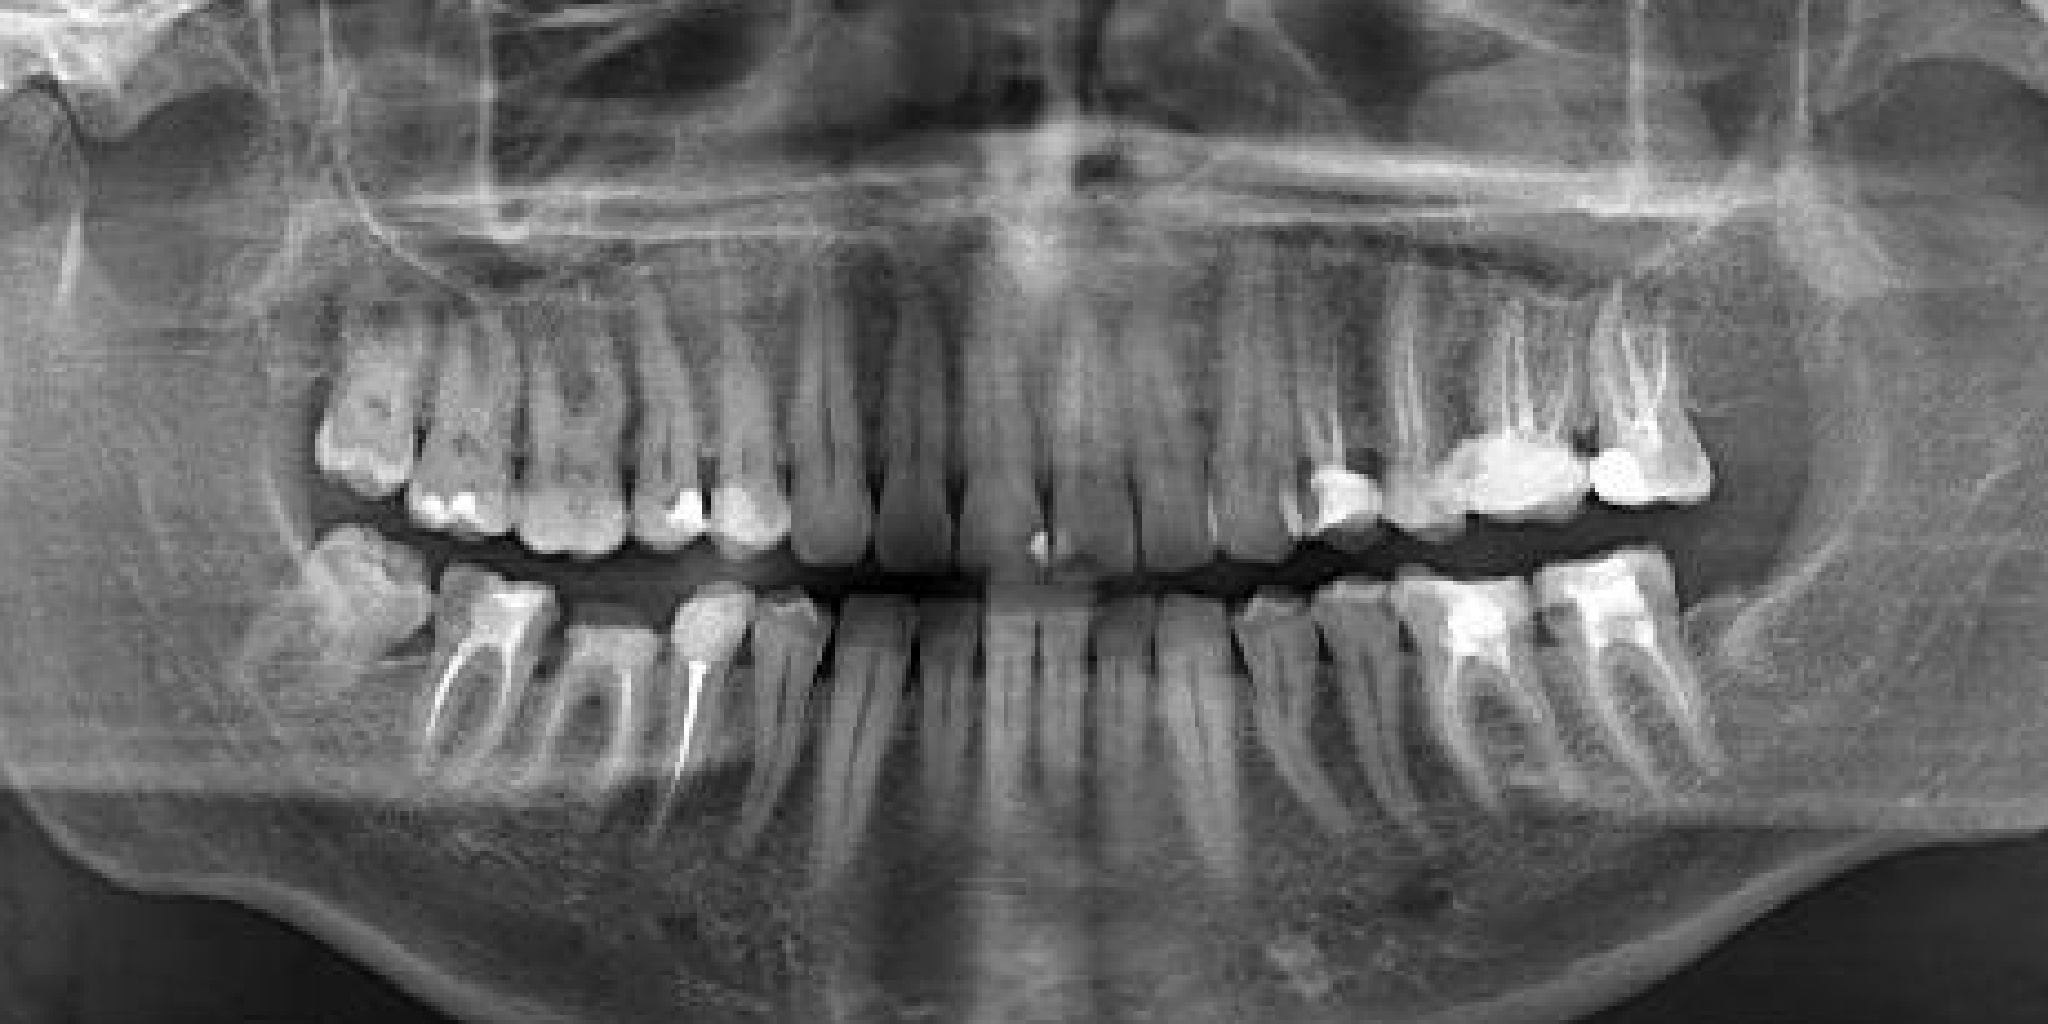Tooth: (1448, 458, 1839, 903), (1307, 481, 1697, 923), (377, 519, 764, 963), (144, 424, 500, 872), (287, 479, 633, 925), (1226, 508, 1546, 951), (536, 507, 839, 947), (1020, 188, 1292, 619), (1499, 152, 1767, 580), (524, 183, 792, 611), (1273, 163, 1541, 590), (329, 175, 596, 603), (1187, 165, 1447, 590), (1381, 174, 1640, 600), (955, 206, 1209, 630), (611, 182, 865, 606), (699, 168, 946, 590), (457, 196, 704, 616), (1140, 185, 1361, 596), (1011, 542, 1232, 952), (892, 536, 1113, 946), (263, 148, 483, 556), (956, 537, 1170, 944)
